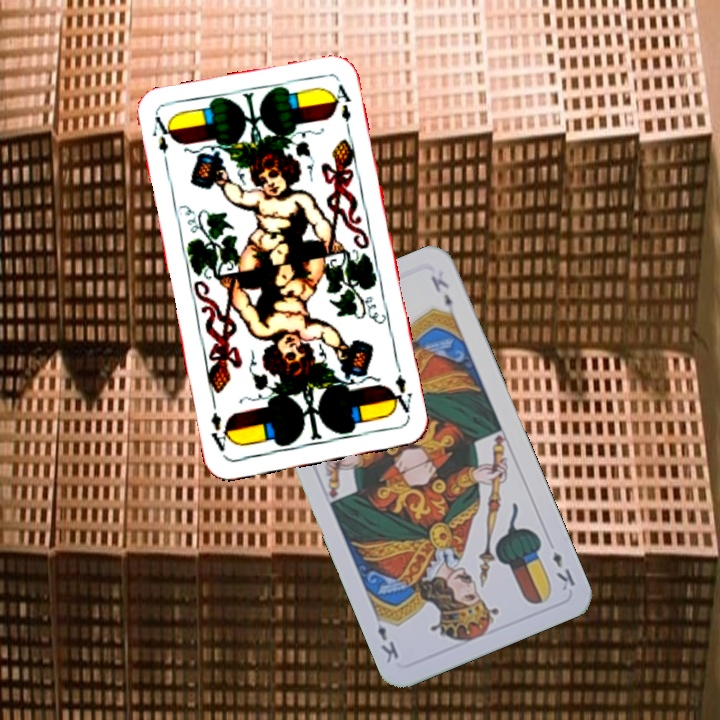EA: (148, 112, 175, 171), (386, 370, 415, 416)
EK: (548, 547, 578, 594)
